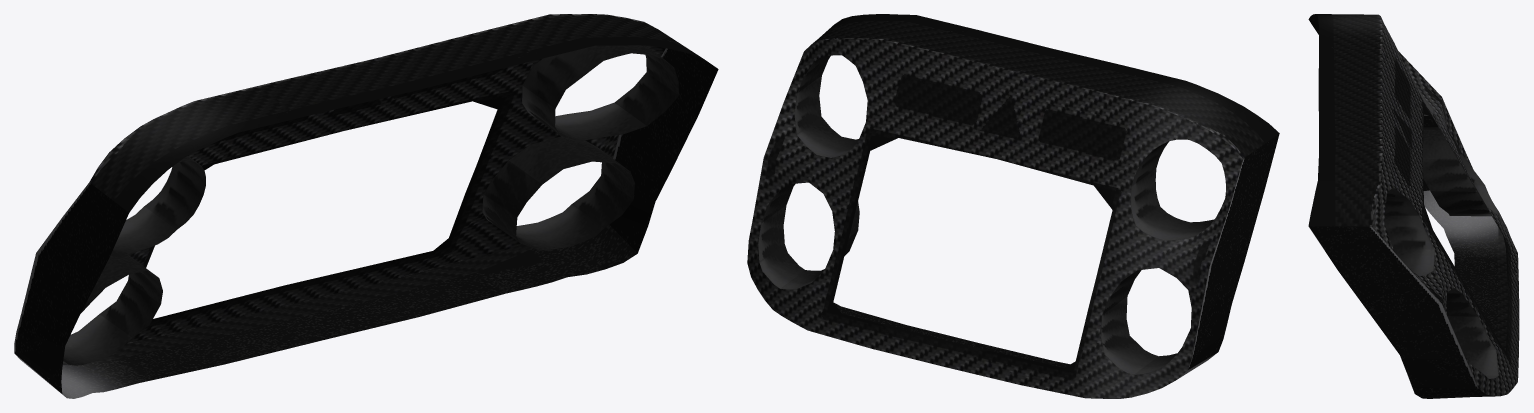
3 renders of one model, left to right at view 1: azimuth 30°, elevation 25°; view 2: azimuth 150°, elevation 25°; view 3: azimuth 270°, elevation 25°, orthographic. The views are drawn at different scales.
Parts seen in each view (by area): view 1: Object509; view 2: Object509; view 3: Object509.
Part boxes in pixels (bbox=[...]): Object509: bbox=[14, 14, 718, 398]; Object509: bbox=[747, 14, 1279, 398]; Object509: bbox=[1308, 14, 1519, 398].
Bounding box in the file's own units: 176 × 91.46 × 75.82.
